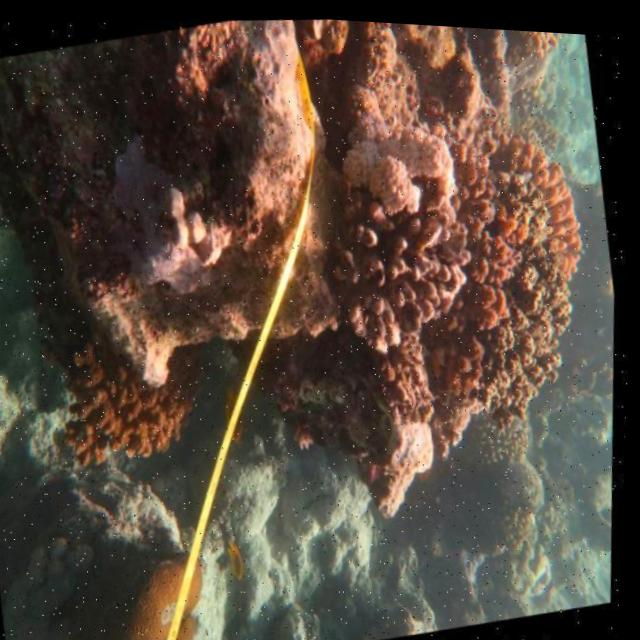Healthy Coral: (274, 13, 640, 518), (42, 287, 219, 484)
